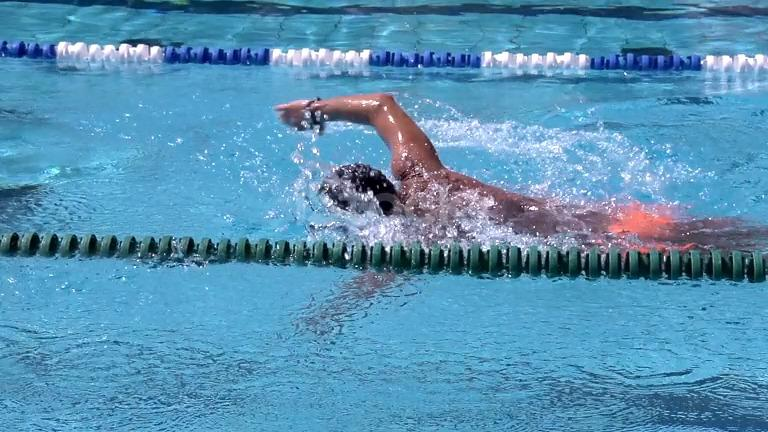Swimming: (222, 66, 736, 338)
